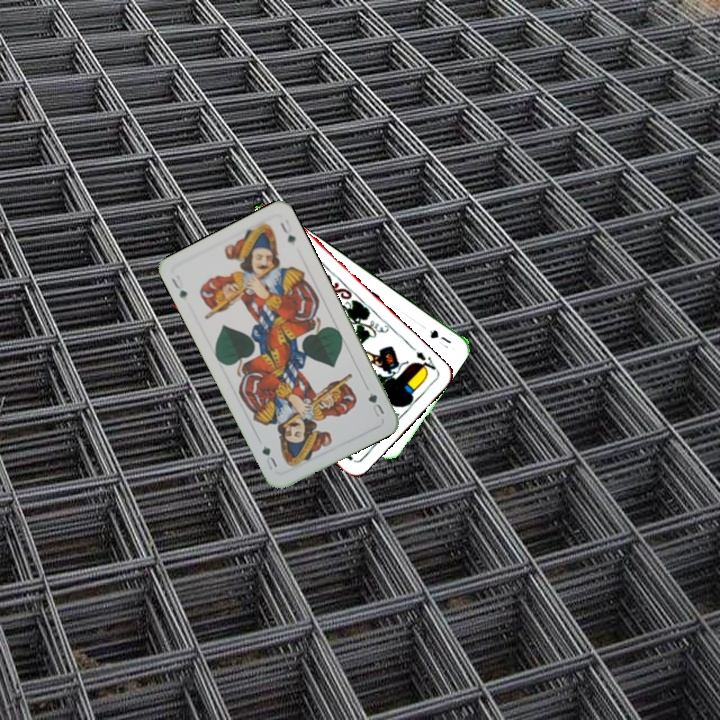EA: (407, 343, 440, 376)
GU: (364, 388, 387, 420), (167, 271, 190, 302), (425, 326, 454, 346)
